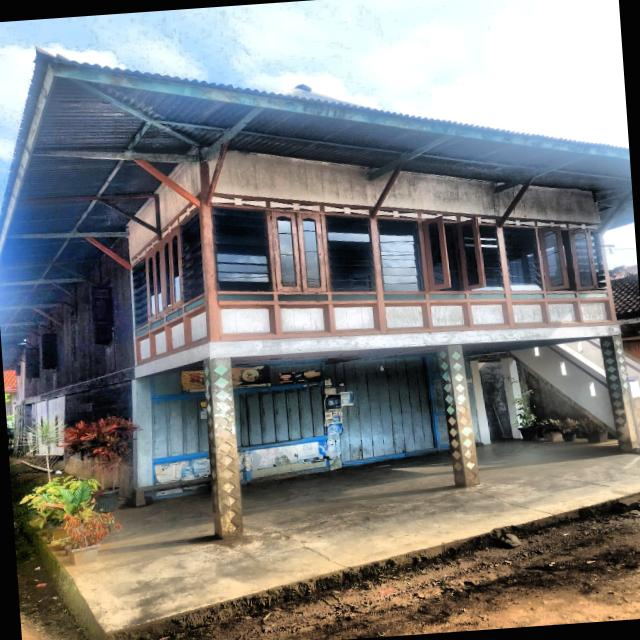column: (200, 357, 244, 539), (436, 343, 481, 488), (599, 334, 640, 452), (131, 376, 153, 488)
ornamen: (218, 304, 276, 337), (277, 304, 330, 334), (332, 303, 380, 332), (384, 302, 429, 330), (429, 301, 470, 329), (470, 301, 510, 327), (183, 305, 207, 346), (511, 301, 548, 325), (547, 300, 581, 324), (579, 300, 612, 323), (165, 316, 185, 353), (149, 326, 166, 358), (135, 333, 150, 364)
roof: (0, 51, 634, 346), (611, 273, 640, 318)
wall: (210, 150, 382, 341), (376, 170, 510, 334), (15, 254, 134, 401), (502, 185, 613, 329), (231, 362, 329, 480), (505, 338, 617, 438), (334, 356, 434, 462), (157, 185, 208, 354), (151, 370, 211, 483), (127, 220, 168, 366), (624, 350, 640, 434)
window: (211, 206, 272, 290), (422, 214, 486, 290), (271, 210, 327, 291), (537, 225, 598, 291), (325, 215, 376, 291), (376, 218, 425, 291), (502, 226, 543, 290), (469, 224, 504, 290), (180, 210, 204, 302), (161, 229, 182, 313), (90, 285, 114, 344), (146, 243, 164, 321), (132, 257, 148, 330), (41, 332, 56, 368), (26, 349, 39, 377)
